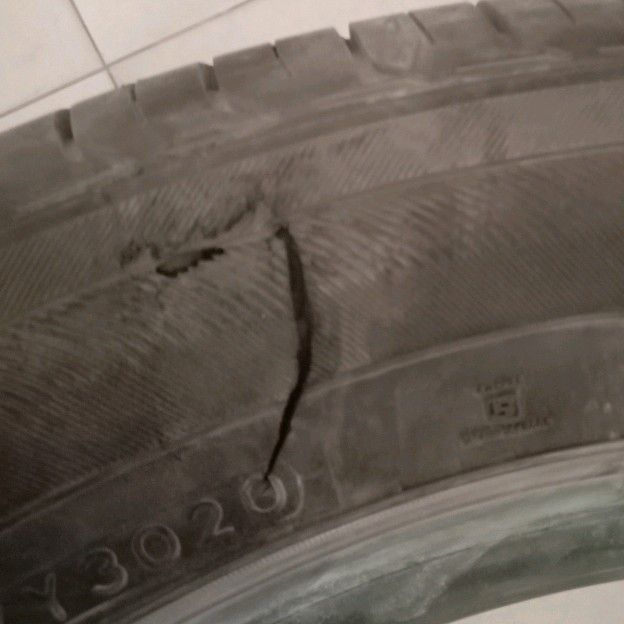cut: (257, 220, 317, 480), (148, 241, 228, 286)
